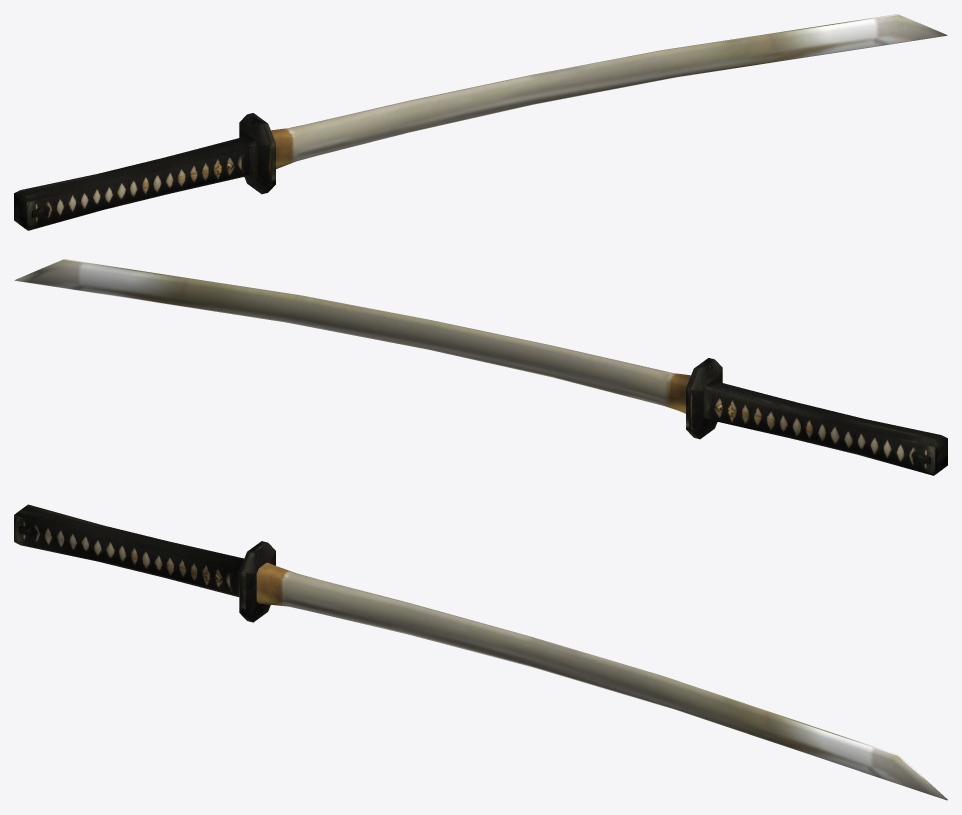
Rendered from katana.fbx.
3 renders of one model, top to bottom at view 1: azimuth 30°, elevation 25°; view 2: azimuth 150°, elevation 25°; view 3: azimuth 330°, elevation 25°, orthographic.
Visible parts, largest first — view 1: katana; view 2: katana; view 3: katana.
Part boxes in pixels (box(x1,y1,x2,y2)): katana: box(14, 14, 947, 230); katana: box(14, 259, 947, 475); katana: box(14, 504, 947, 800).
Bounding box in the file's own units: 99.55 × 8.68 × 5.63.
